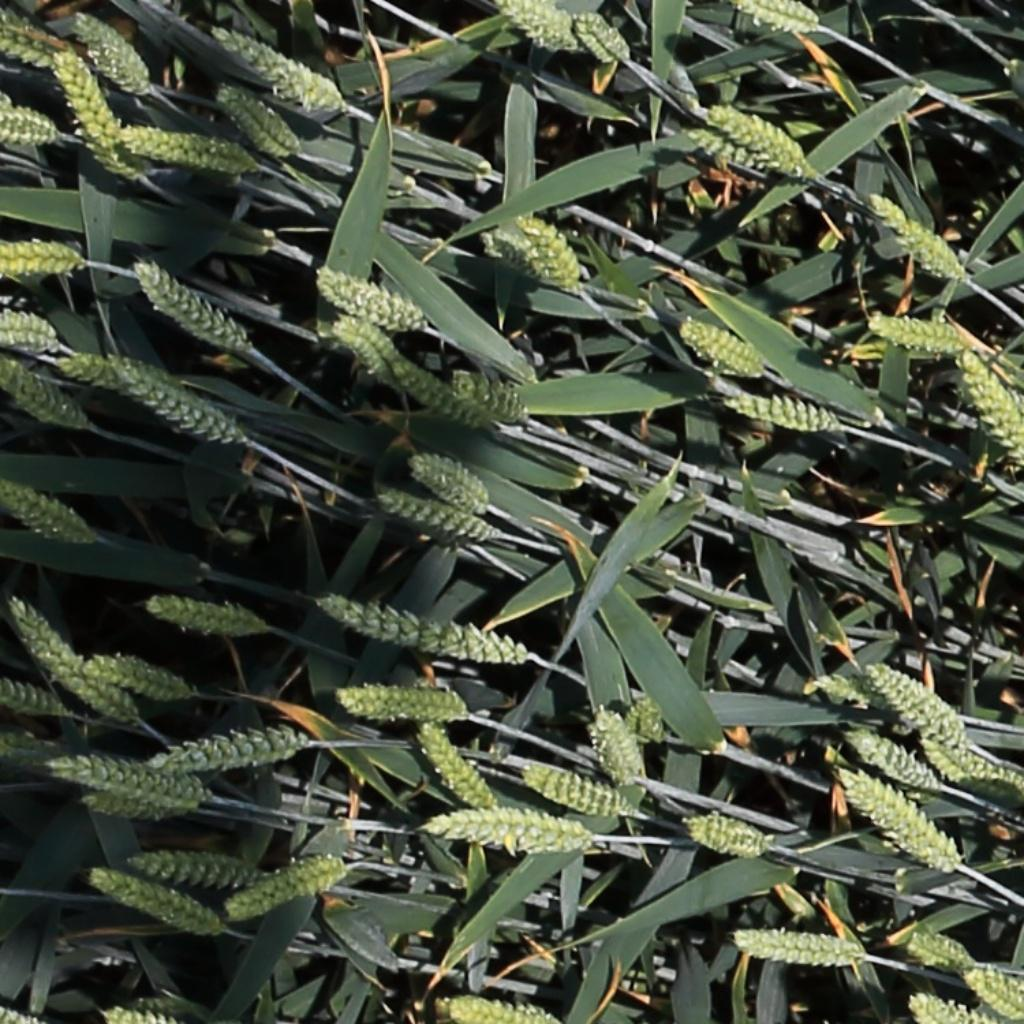0-0: (73, 352, 240, 442), (865, 191, 989, 295), (316, 599, 518, 662), (210, 25, 344, 114), (842, 772, 958, 873), (129, 259, 245, 352), (47, 46, 126, 177), (864, 660, 973, 752), (417, 803, 595, 856), (49, 752, 224, 804), (226, 848, 355, 918), (953, 346, 1024, 472), (309, 267, 442, 331), (87, 871, 215, 936), (412, 719, 495, 815), (705, 103, 816, 173), (147, 728, 317, 771), (69, 10, 148, 94), (1, 356, 86, 431), (389, 357, 479, 427), (6, 596, 80, 681), (715, 386, 846, 434), (114, 125, 255, 169), (679, 318, 775, 382), (69, 653, 201, 699), (521, 765, 630, 820), (375, 490, 492, 539), (727, 927, 870, 967), (507, 207, 581, 283), (2, 480, 90, 542), (846, 731, 935, 790), (218, 84, 294, 152), (132, 849, 255, 891), (480, 232, 572, 288), (340, 680, 465, 719), (446, 368, 533, 423), (49, 667, 132, 723), (587, 708, 641, 790), (331, 315, 395, 380), (409, 457, 486, 509), (922, 741, 1008, 787), (143, 599, 259, 633), (444, 993, 568, 1024), (500, 0, 576, 49), (866, 315, 966, 352), (683, 131, 770, 173), (0, 239, 96, 276), (81, 784, 179, 817), (573, 10, 630, 65), (684, 820, 771, 856), (966, 969, 1024, 1018), (905, 930, 973, 970), (906, 992, 988, 1024), (0, 312, 59, 355), (735, 0, 817, 30), (0, 681, 68, 716), (0, 104, 57, 145), (623, 692, 663, 749), (808, 677, 876, 707), (1, 32, 55, 66)
